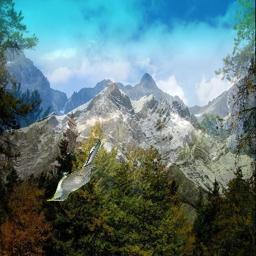Cuckoo: (47, 141, 101, 202)
